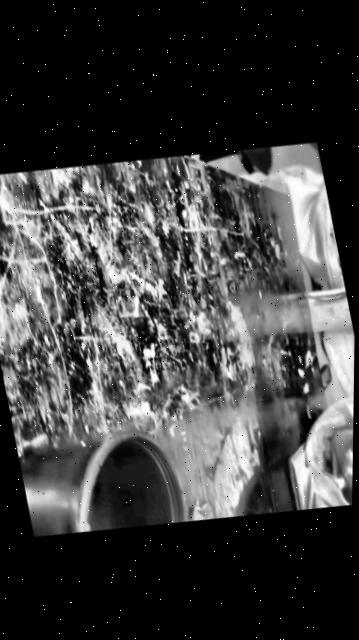pot: (14, 414, 186, 554)
